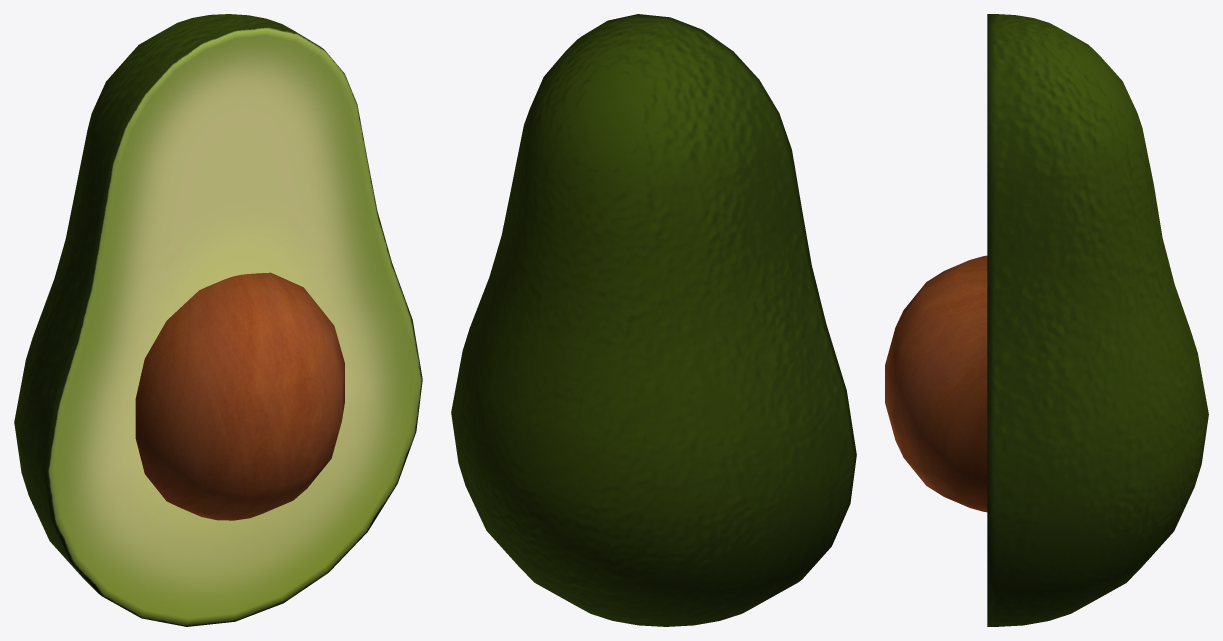
File: Avocado.fbx
The picture shows the model from 3 angles, left to right: view 1: azimuth 30°, elevation 25°; view 2: azimuth 150°, elevation 25°; view 3: azimuth 270°, elevation 25°; orthographic projection.
Visible parts, largest first — view 1: Avocado; view 2: Avocado; view 3: Avocado.
Boxes of the visible parts, bbox=[...] form: Avocado: bbox=[14, 14, 422, 626]; Avocado: bbox=[451, 14, 856, 626]; Avocado: bbox=[885, 14, 1208, 626].
Size of the model in its own units: 19.52 by 29.39 by 14.82.
